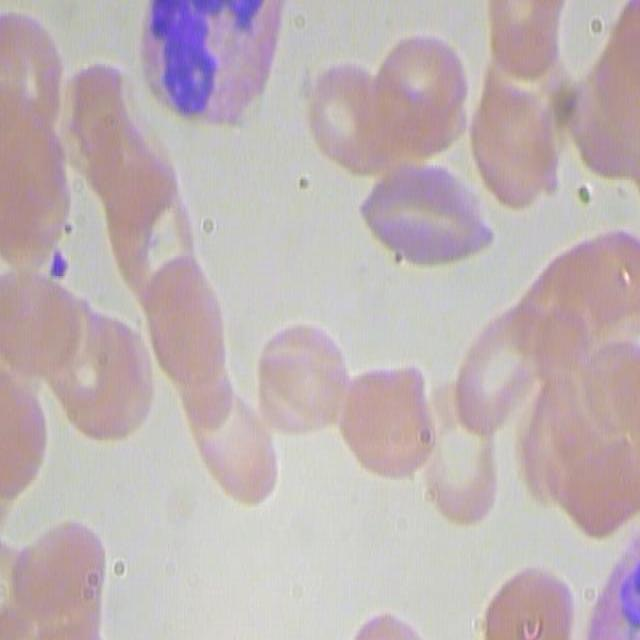RBC: (1, 134, 148, 338), (518, 224, 639, 382), (355, 150, 501, 280), (137, 228, 237, 398), (95, 149, 207, 299), (361, 23, 475, 160), (43, 298, 148, 446), (485, 2, 598, 123), (246, 316, 352, 444), (448, 304, 552, 431), (332, 358, 433, 486), (563, 25, 640, 186), (302, 59, 395, 183), (471, 84, 559, 212), (188, 393, 276, 504), (419, 404, 501, 521), (0, 4, 70, 137), (538, 0, 626, 104), (480, 560, 580, 638)
WBC: (132, 0, 274, 157), (615, 517, 640, 639)
